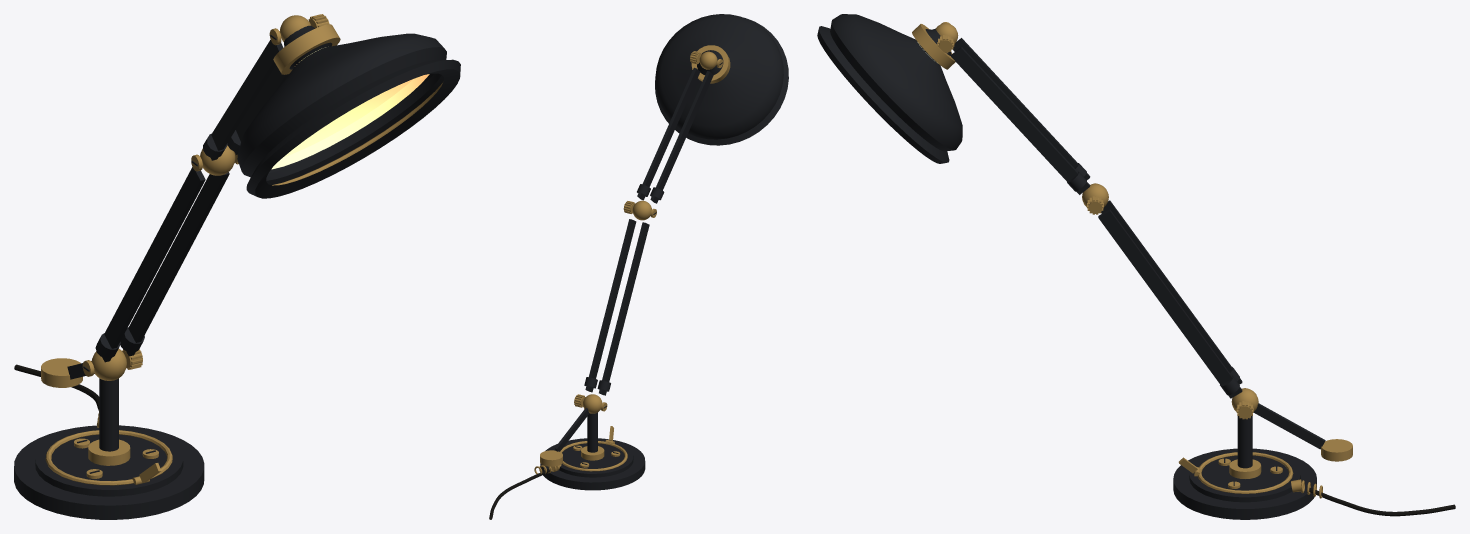
File: lamp.glb
3 renders of one model, left to right at view 1: azimuth 30°, elevation 25°; view 2: azimuth 150°, elevation 25°; view 3: azimuth 270°, elevation 25°, orthographic. The views are drawn at different scales.
Visible parts, largest first — view 1: LampSteel, LampBrass, LampReflector; view 2: LampSteel, LampBrass; view 3: LampSteel, LampBrass, LampCable.
Boxes of the visible parts, x1,y1,x2,y2 form: LampSteel: (14,25,460,519); LampBrass: (41,14,442,485); LampReflector: (271,47,429,169); LampSteel: (540,14,788,490); LampBrass: (534,45,730,474); LampSteel: (817,14,1325,519); LampBrass: (912,22,1352,498); LampCable: (1309,487,1455,516).
Bounding box in the file's own units: 0.1853 × 0.523 × 0.6396.
